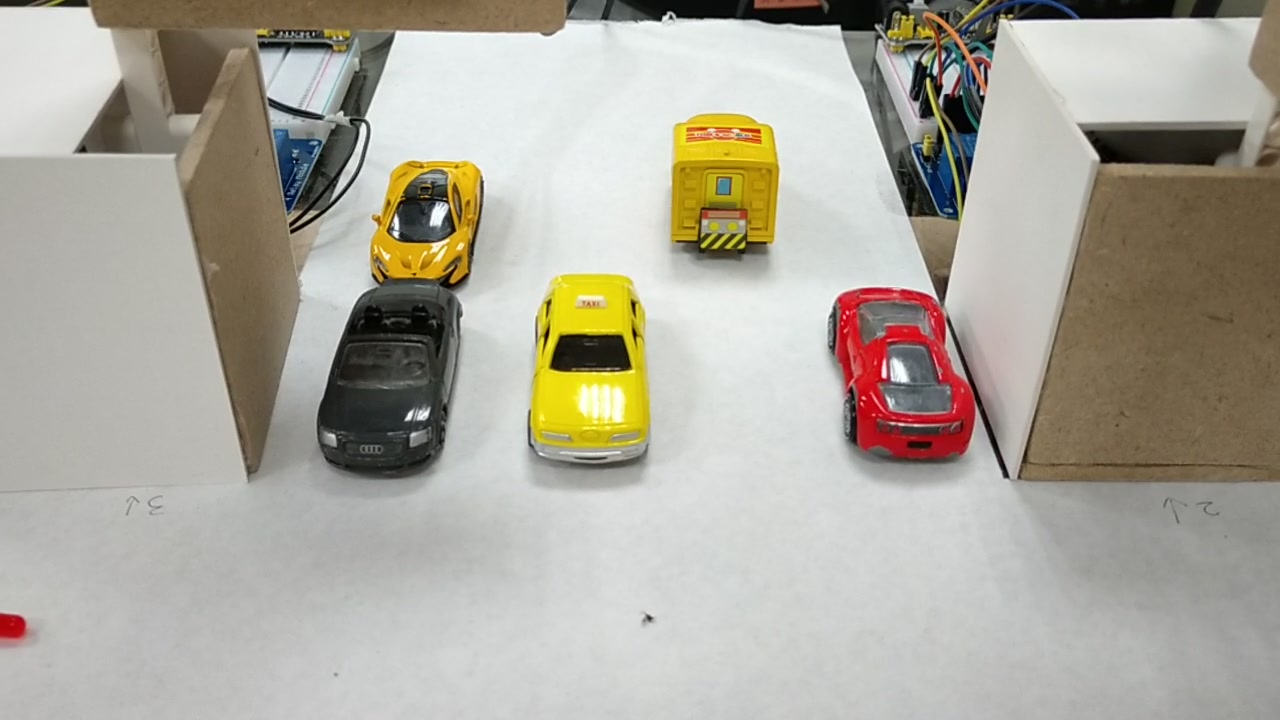car: (819, 288, 980, 460), (309, 288, 456, 467), (531, 266, 646, 459), (372, 159, 481, 284)
